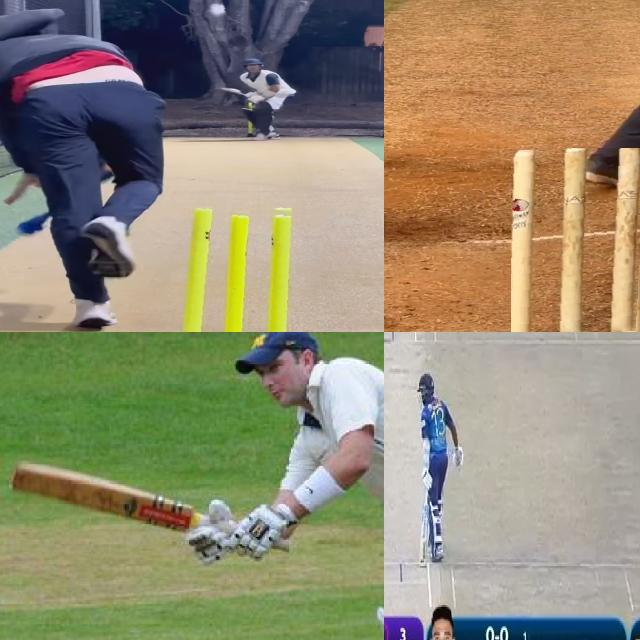Cricket ball: (200, 2, 235, 20)
Stumps: (510, 148, 640, 332), (170, 203, 327, 332)
